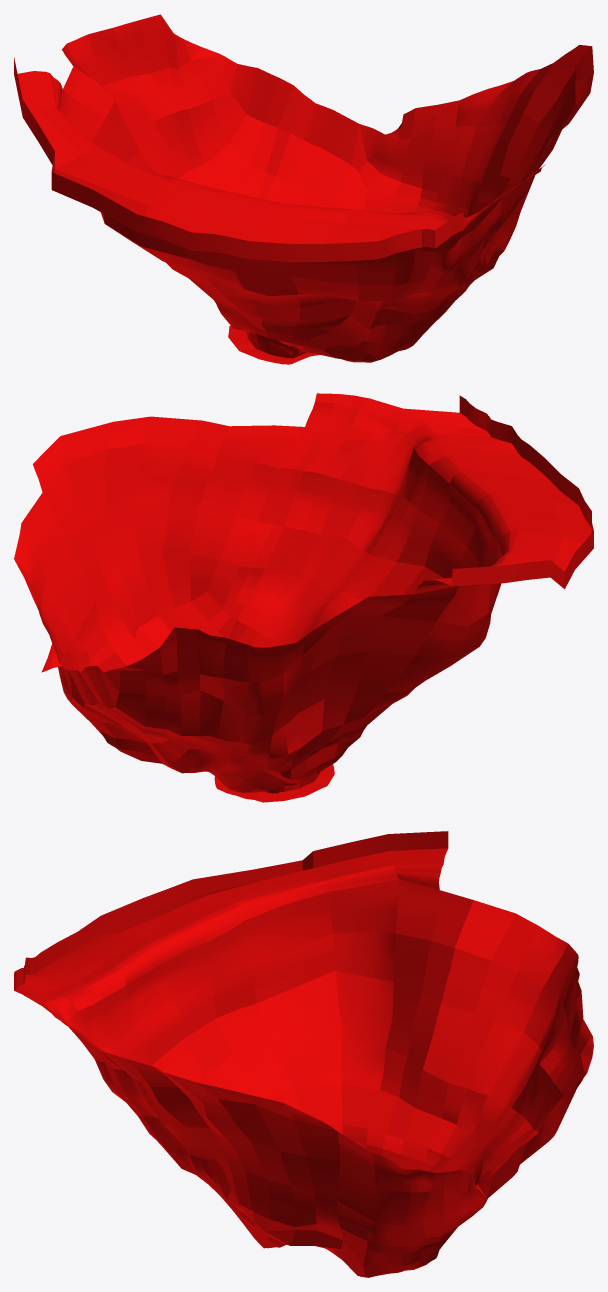
Rendered from Volcano_COLLISION.fbx.
The picture shows the model from 3 angles, top to bottom: view 1: azimuth 30°, elevation 25°; view 2: azimuth 150°, elevation 25°; view 3: azimuth 270°, elevation 25°; orthographic projection. The views are drawn at different scales.
Parts seen in each view (by area): view 1: polySurface1, polySurface2; view 2: polySurface1, polySurface2; view 3: polySurface1.
Boxes of the visible parts, box(x1,y1,x2,y2) form: polySurface1: box(14, 14, 593, 362); polySurface2: box(228, 325, 319, 364); polySurface1: box(14, 393, 593, 793); polySurface2: box(214, 764, 334, 802); polySurface1: box(14, 831, 593, 1277).
Bounding box in the file's own units: 91274 × 49387 × 89616.
